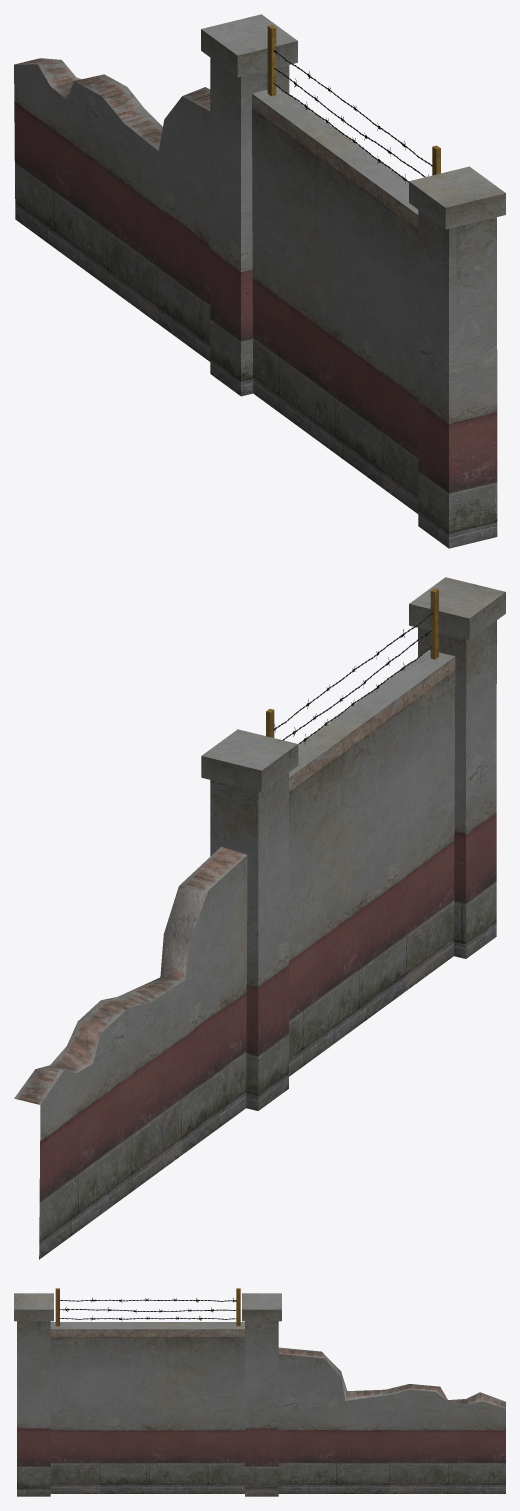
File: Cover_Jz0013d.glb
3 views of the same model, one above another, from view 1: azimuth 30°, elevation 25°; view 2: azimuth 150°, elevation 25°; view 3: azimuth 270°, elevation 25° (orthographic). The views are drawn at different scales.
Parts seen in each view (by area): view 1: xiutz_jz0013d; view 2: xiutz_jz0013d; view 3: xiutz_jz0013d.
Boxes of the visible parts, x1=… form: xiutz_jz0013d: x1=14, y1=14, x2=505, y2=548; xiutz_jz0013d: x1=14, y1=577, x2=505, y2=1259; xiutz_jz0013d: x1=14, y1=1288, x2=505, y2=1496.
Size of the model in its own units: 0.74 by 4.3 by 9.51.
Materials: 1 (1 with a texture image).
